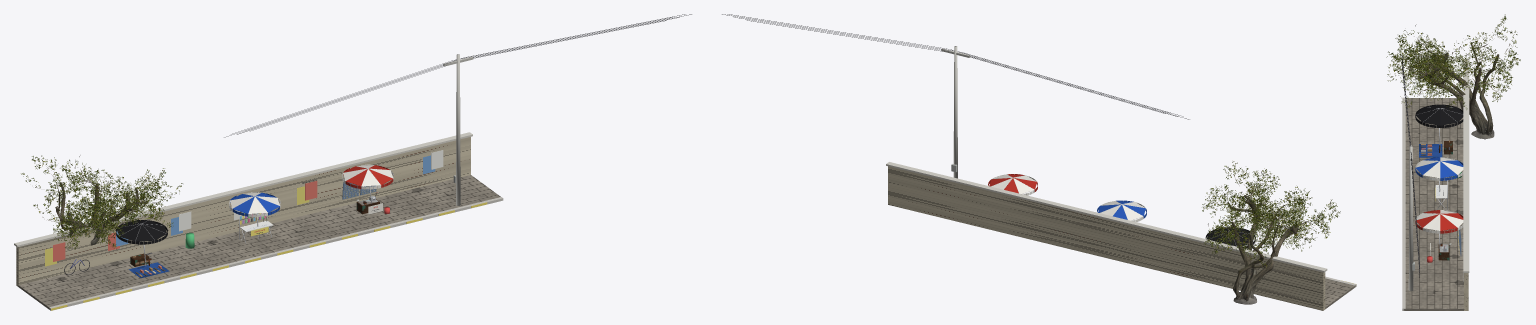
File: townhall_pavement.glb
3 renders of one model, left to right at view 1: azimuth 30°, elevation 25°; view 2: azimuth 150°, elevation 25°; view 3: azimuth 270°, elevation 25°, orthographic. The views are drawn at different scales.
Visible parts, largest first — view 1: townhall_pavement; view 2: townhall_pavement; view 3: townhall_pavement.
Part boxes in pixels (x1=…): townhall_pavement: x1=14, y1=14, x2=691, y2=310; townhall_pavement: x1=722, y1=14, x2=1356, y2=310; townhall_pavement: x1=1386, y1=14, x2=1520, y2=310.
Size of the model in its own units: 40.4 by 9.03 by 7.63.
Materials: 55 (11 with a texture image).
